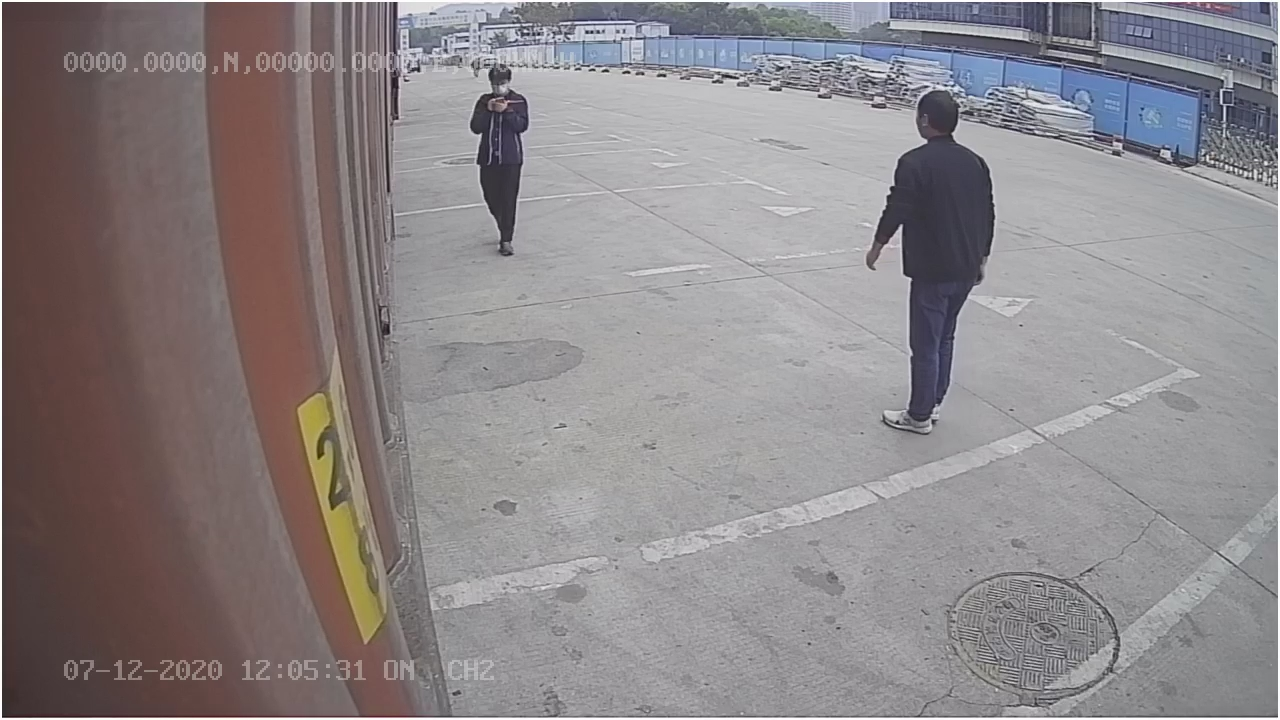person: (858, 84, 1001, 441)
